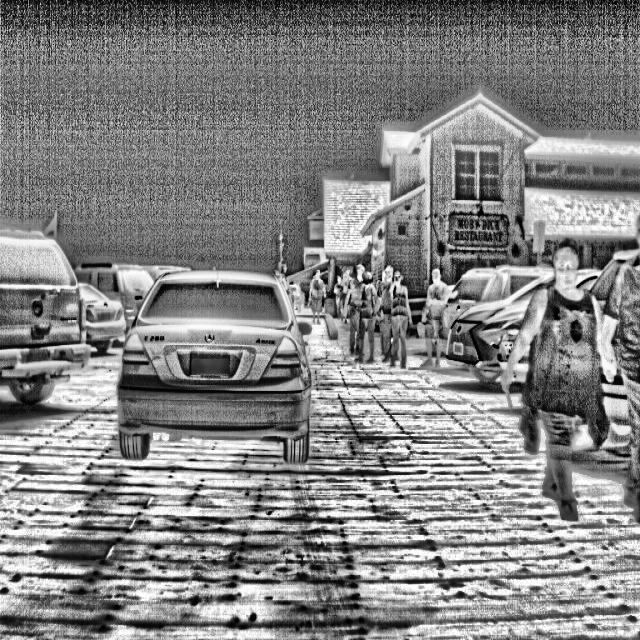car: (137, 261, 317, 467), (2, 213, 109, 404), (86, 242, 192, 336), (458, 271, 541, 379)
person and bycle: (528, 240, 604, 510), (614, 244, 640, 496), (350, 270, 377, 358), (424, 268, 446, 370), (358, 274, 382, 361), (389, 270, 411, 354), (337, 270, 362, 334), (308, 270, 334, 323), (380, 270, 394, 356)
